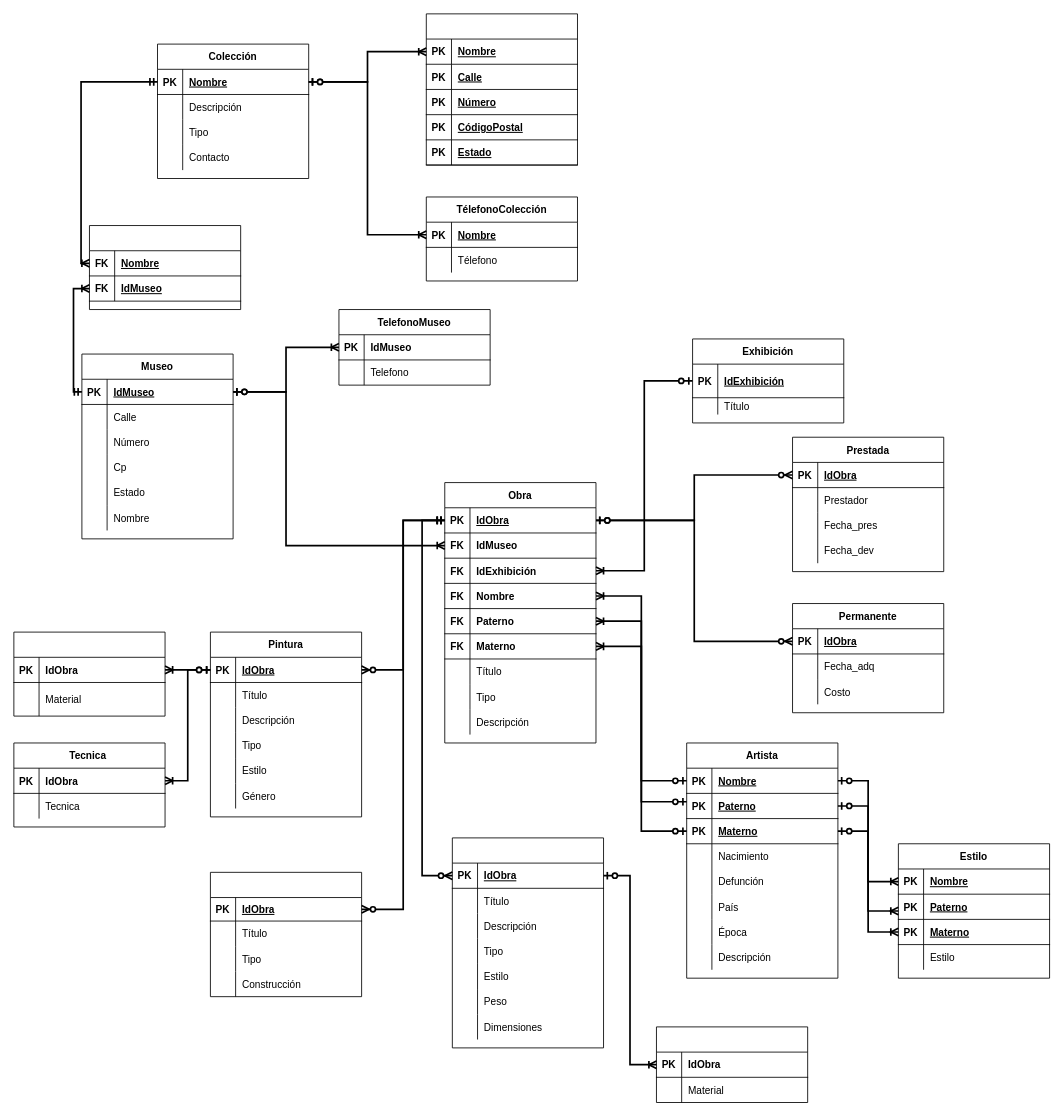
This 1063x1116 diagram has some shape labels left out. Each missing label, with the box of its shape:
Dirección: (425, 13, 578, 165)
Escultura: (452, 837, 604, 1048)
Interactuar: (89, 225, 241, 310)
MaterialE: (656, 1026, 808, 1102)
MaterialP: (13, 631, 165, 716)
MIscelanea: (210, 872, 362, 997)
